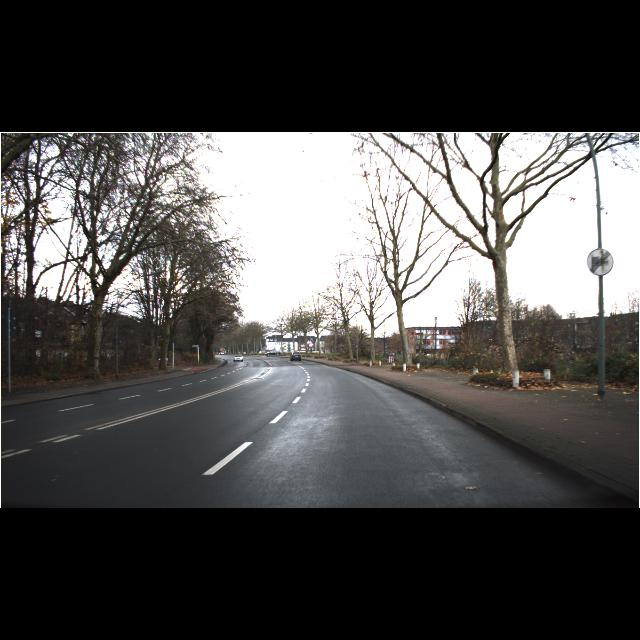other: (586, 248, 614, 276)
